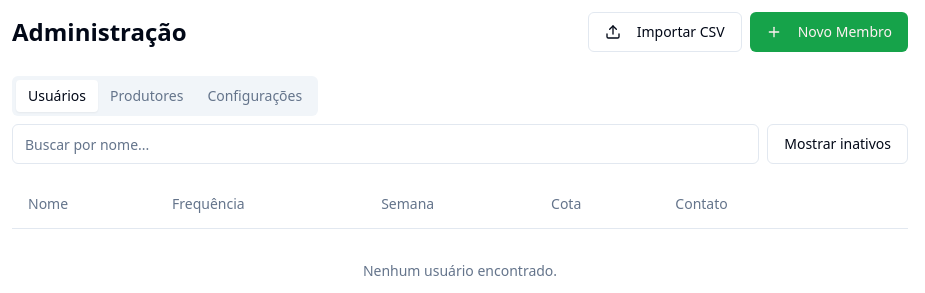
AdminPage — ação principal por aba › aba produtores: troca para Novo Produtor e some o Importar CSV
Click the tab "Produtores" at {"x": 147, "y": 96}, box [98,80,195,112]
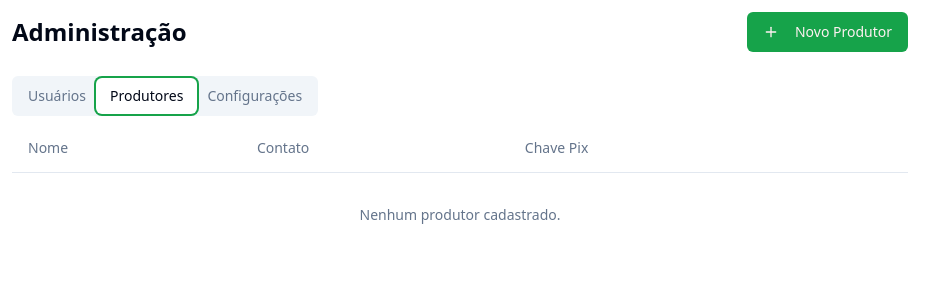
expect the button "Novo Produtor" is shown: met, box [747,12,908,52]
expect the button "Novo Membro" is gone: met
expect the button "Importar CSV" is gone: met
